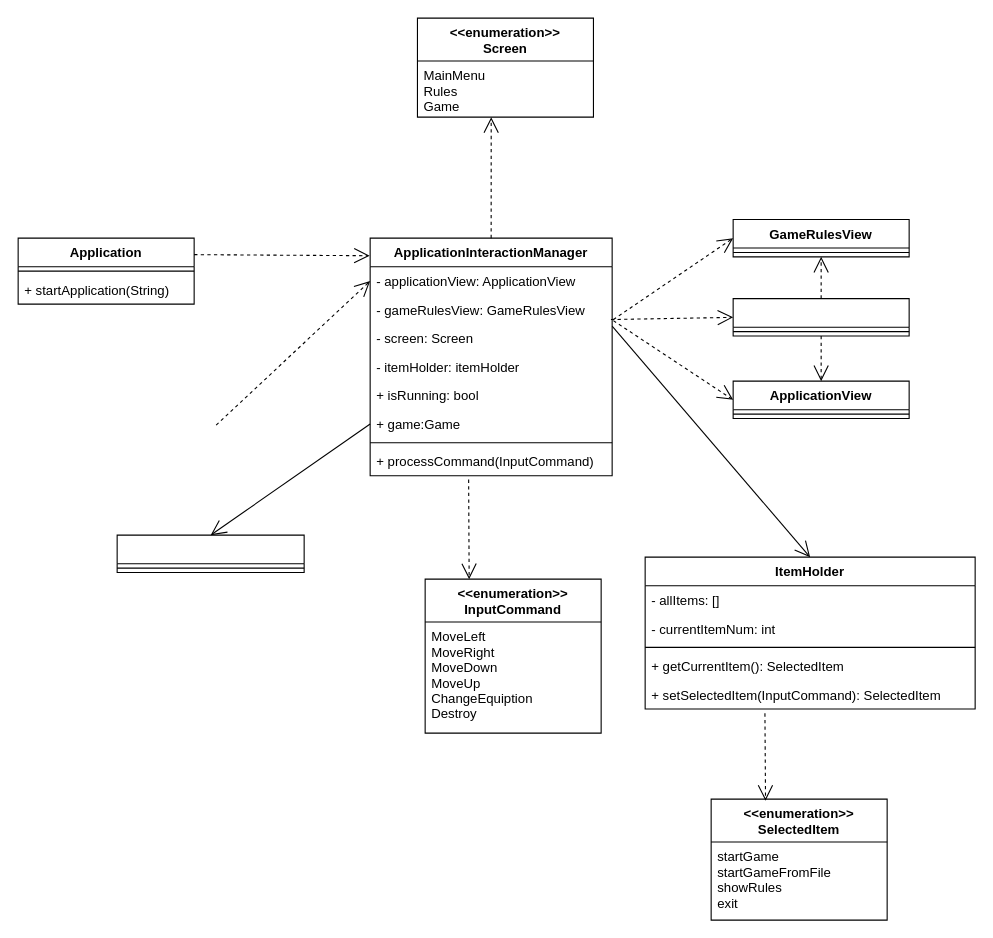
Image size: 993x938. Some labels were removed from this diagram. Here are the shapes that lost their labels. From the top down, the centre of each, then its label:
the point at 820,317: AbstractViewFactory
the point at 210,553: Game
